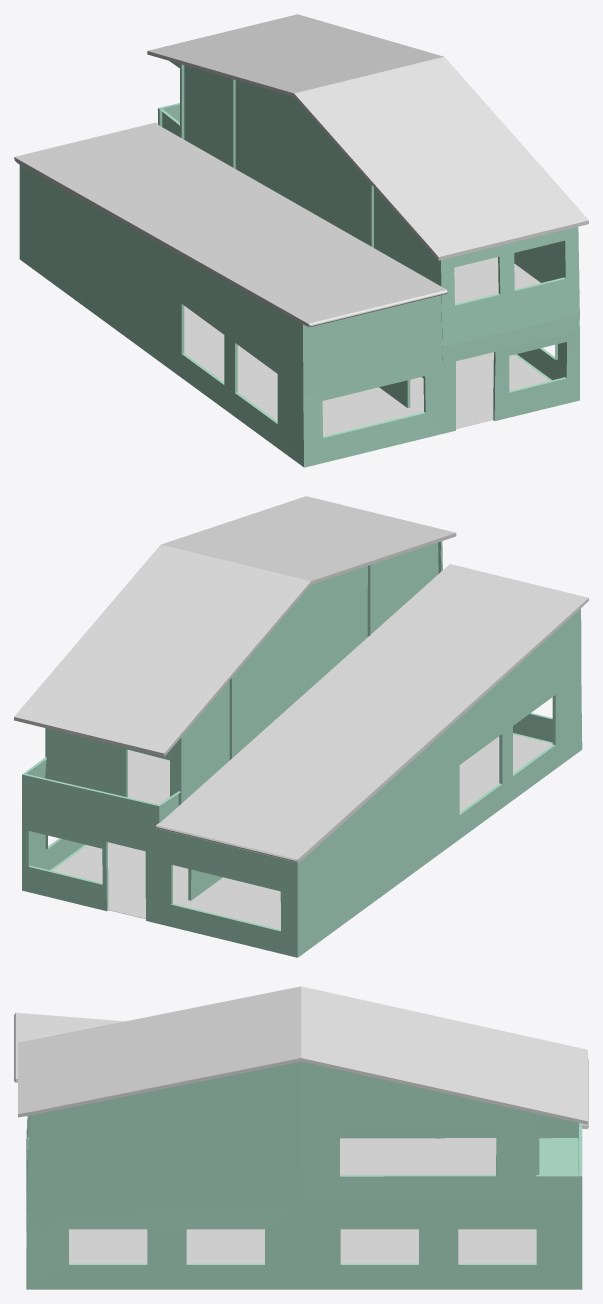
The model's file is house1 (2).fbx.
3 views of the same model, one above another, from view 1: azimuth 30°, elevation 25°; view 2: azimuth 150°, elevation 25°; view 3: azimuth 270°, elevation 25° (orthographic). The views are drawn at different scales.
Visible parts, largest first — view 1: House, Roof1, Roof2; view 2: House, Roof2, Roof1; view 3: House, Roof1, Roof2.
Boxes of the visible parts, <box> form: House: <box>19,61,579,467</box>; Roof1: <box>147,14,588,260</box>; Roof2: <box>14,122,447,327</box>; House: <box>22,541,582,957</box>; Roof2: <box>156,564,588,862</box>; Roof1: <box>14,496,456,756</box>; House: <box>26,1061,582,1289</box>; Roof1: <box>18,986,587,1124</box>; Roof2: <box>14,1012,588,1129</box>.
Bounding box in the file's own units: 7770 × 6263 × 13925.
